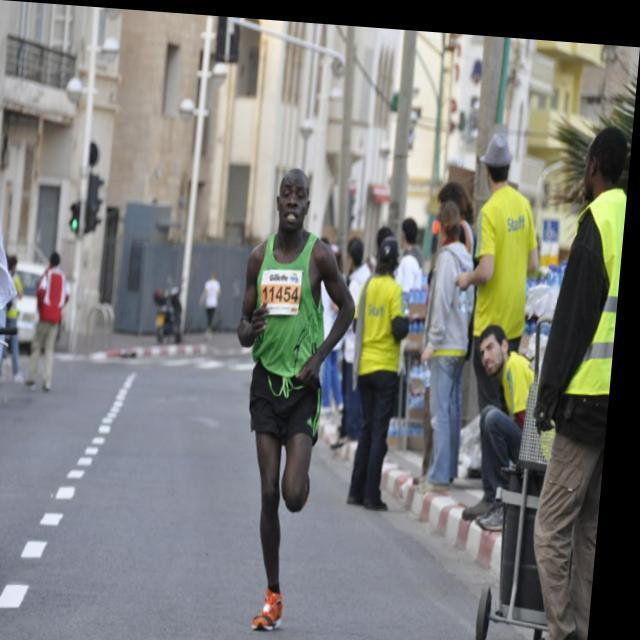dorsal: (262, 262, 310, 313)
